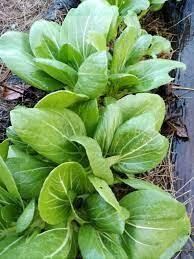Healthy-Pechay: (10, 4, 182, 255)
